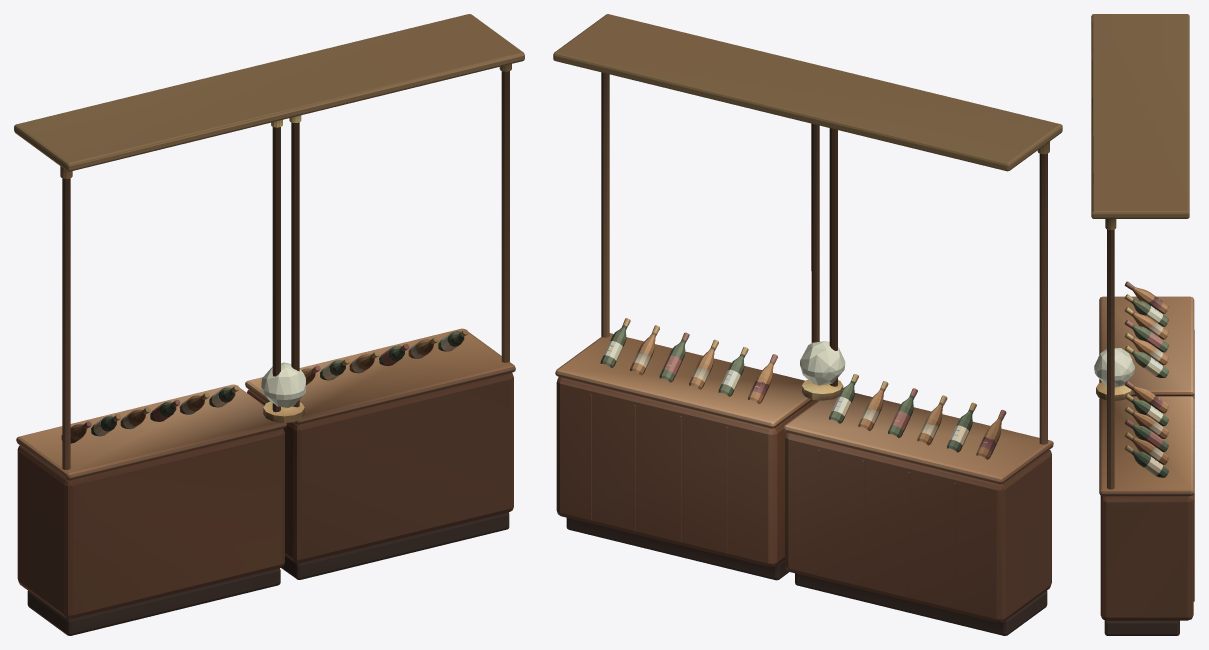
Rendered from island.glb.
3 renders of one model, left to right at view 1: azimuth 30°, elevation 25°; view 2: azimuth 150°, elevation 25°; view 3: azimuth 270°, elevation 25°, orthographic. The views are drawn at different scales.
Visible parts, largest first — view 1: Surface; view 2: Surface; view 3: Surface.
Boxes of the visible parts, <box> form: Surface: <box>14,14,524,635</box>; Surface: <box>553,14,1062,635</box>; Surface: <box>1091,14,1194,635</box>.
Size of the model in its own units: 2.68 by 2.69 by 0.5875.
